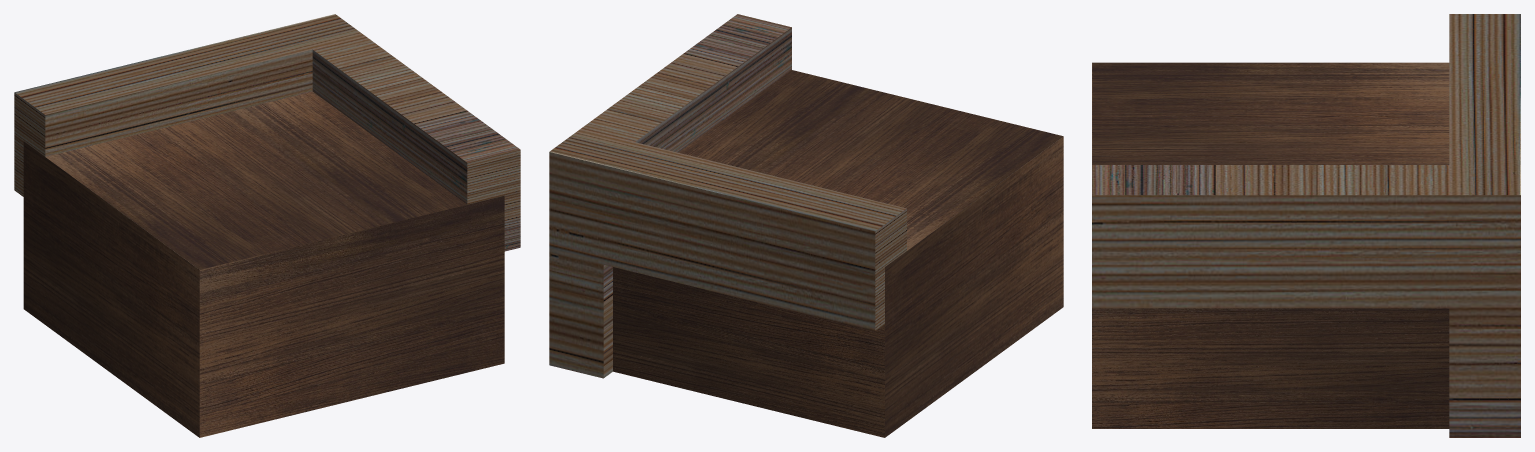
File: wall4.fbx
3 views of the same model, side by side, from view 1: azimuth 30°, elevation 25°; view 2: azimuth 150°, elevation 25°; view 3: azimuth 270°, elevation 25° (orthographic). The views are drawn at different scales.
Parts seen in each view (by area): view 1: Cube.003; view 2: Cube.003; view 3: Cube.003.
Part boxes in pixels (left/top/right/bottom): Cube.003: left=14, top=14, right=520, bottom=437; Cube.003: left=549, top=14, right=1063, bottom=437; Cube.003: left=1092, top=14, right=1520, bottom=437.
Bounding box in the file's own units: 200 × 125 × 200.
